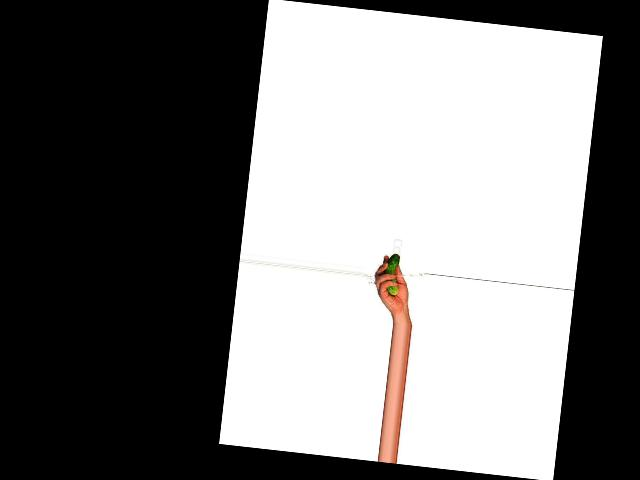cucumber: (382, 252, 401, 295)
